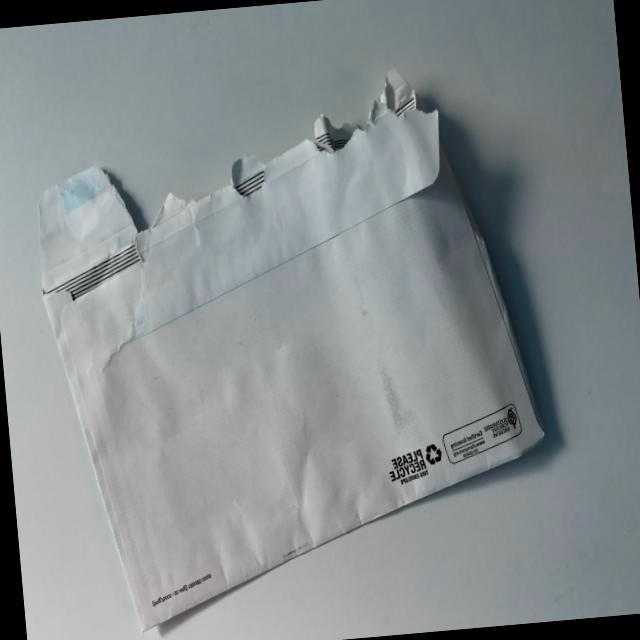paper: (10, 74, 601, 640)
